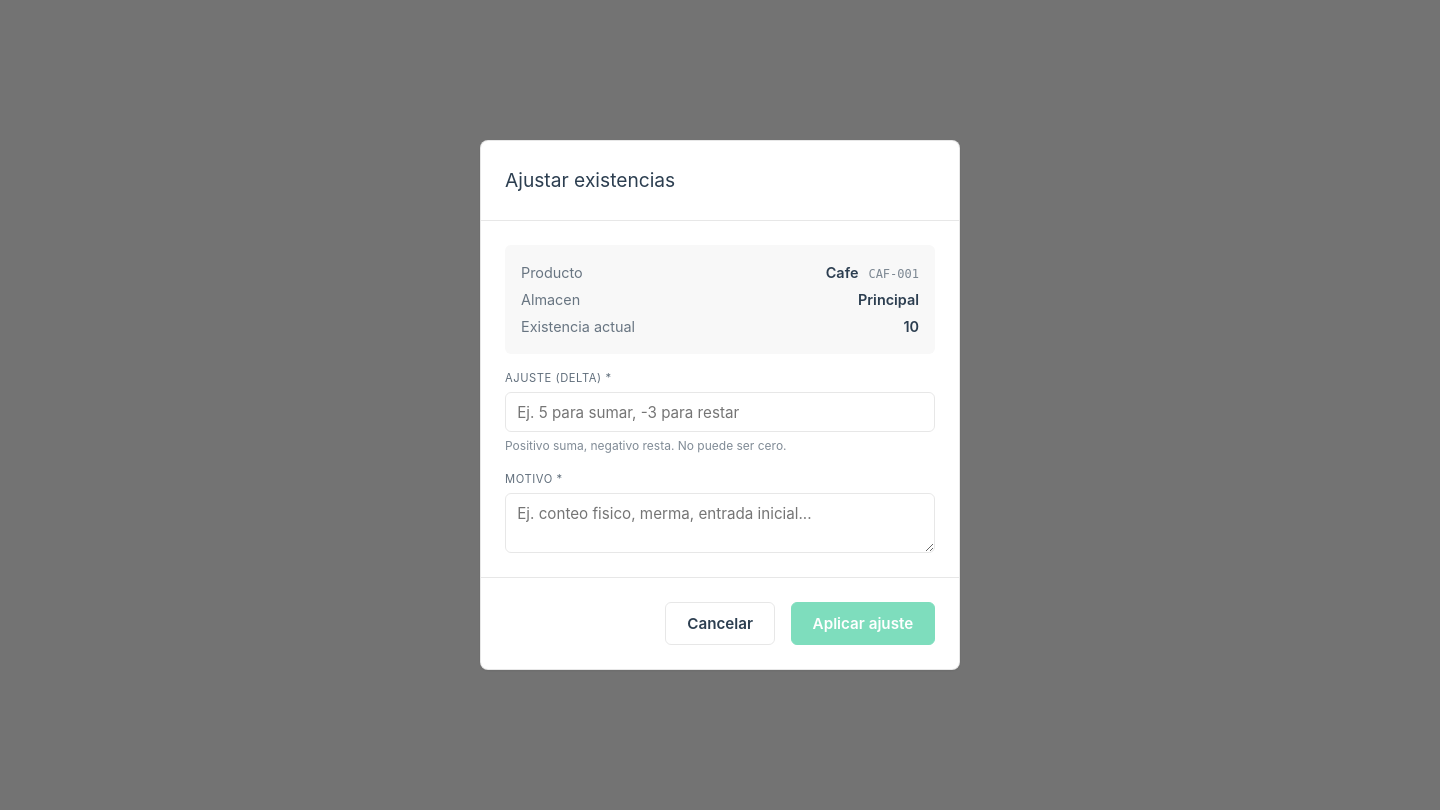
Test: AdjustStockModal › muestra el error del store cuando el ajuste falla
Type "-50" into the field with id "a-delta".
click(720, 412); type("-50")  # box [505,392,935,432]
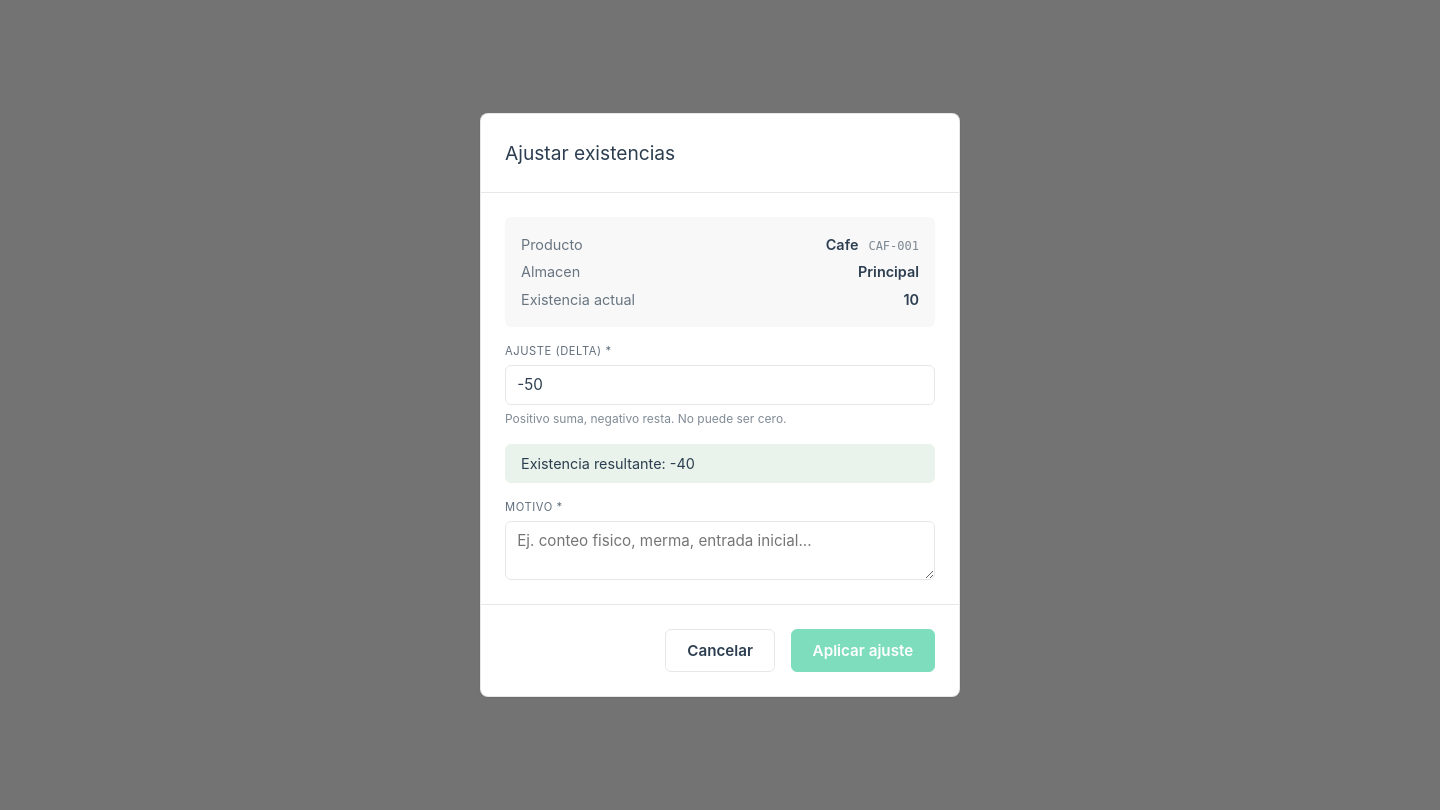
Type "Merma" into the text box with id "a-reason".
click(720, 550); type("Merma")  # box [505,521,935,580]
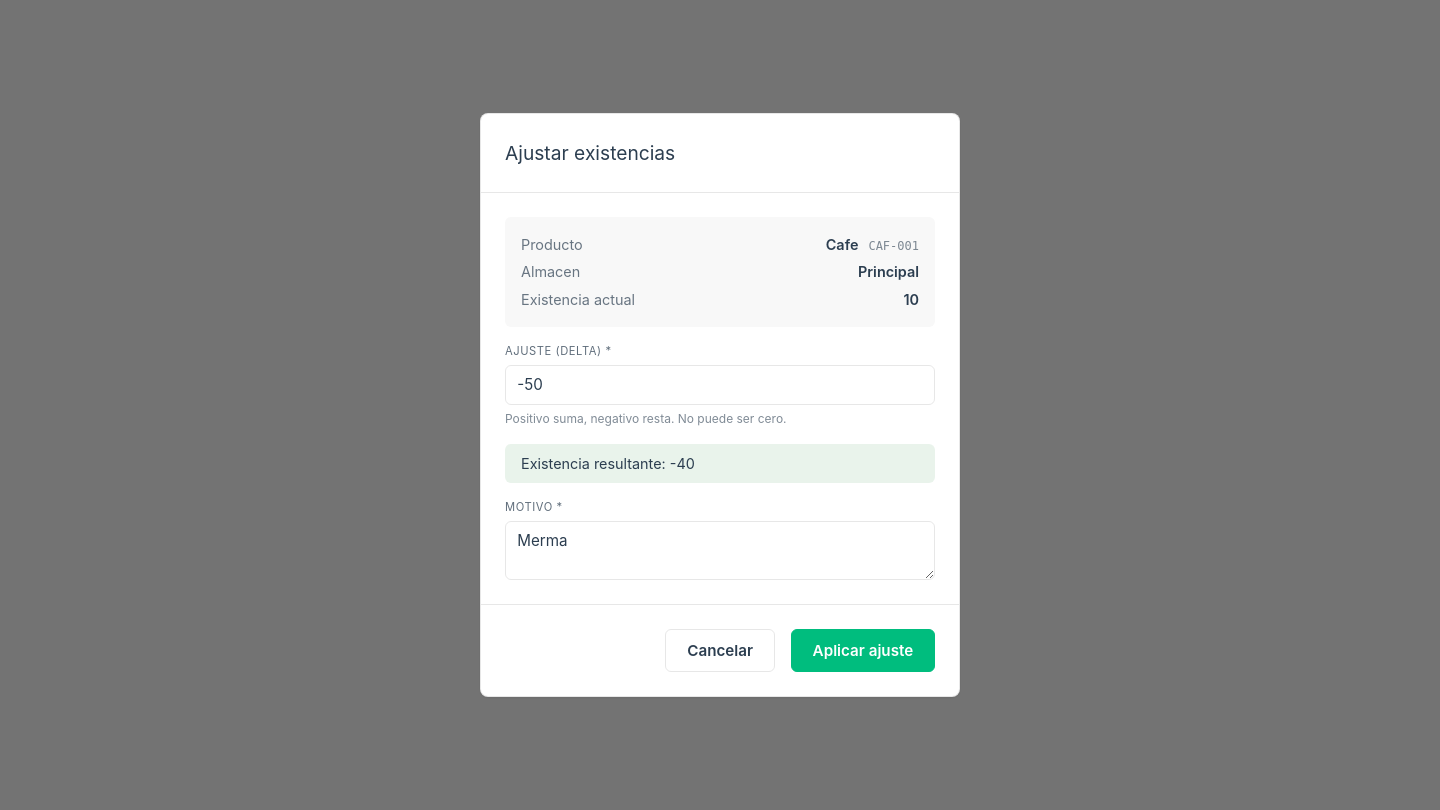
Click the button with class "adj-modal__btn--save".
click(863, 651)  # box [791,629,935,672]
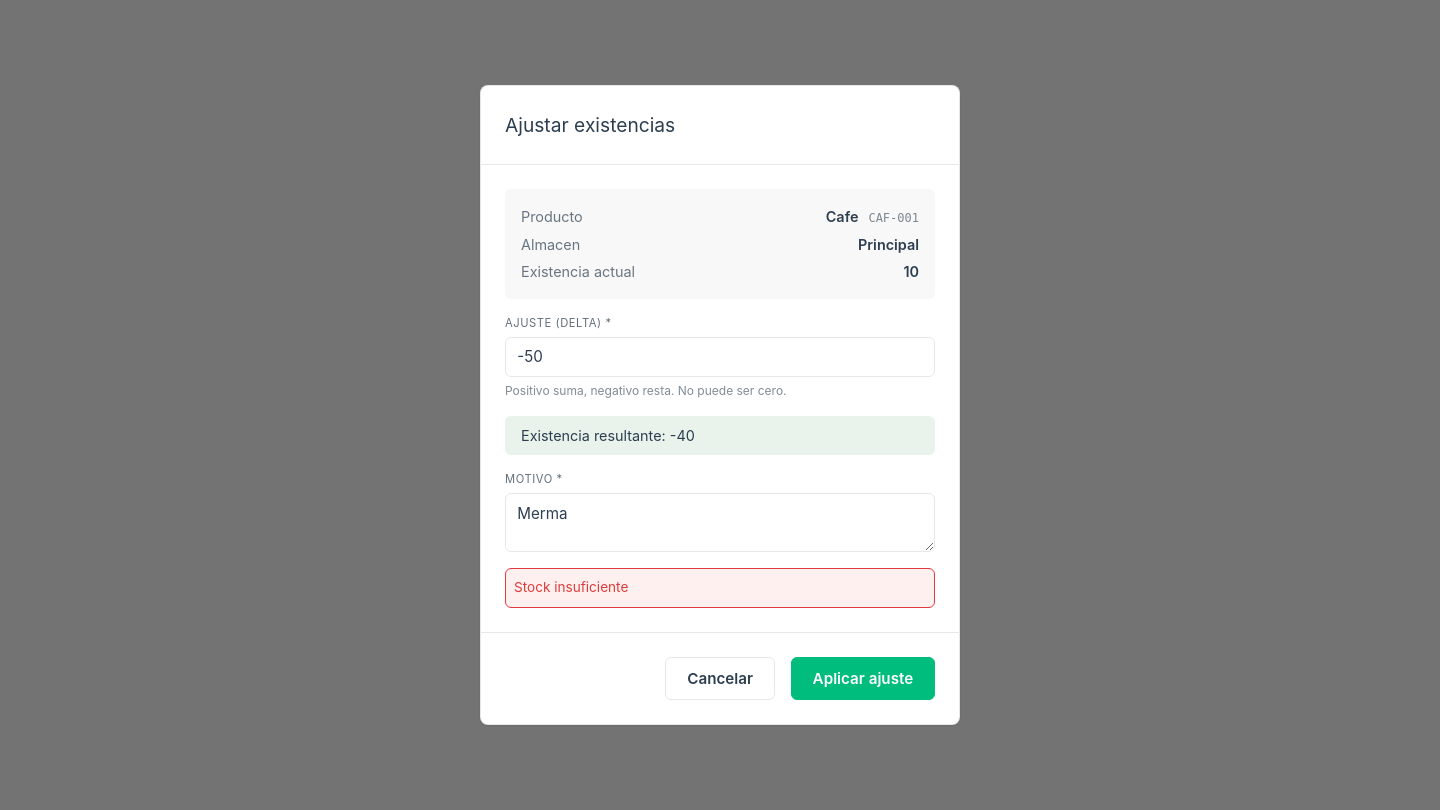
Now the text with class "adj-modal__error" reads "Stock insuficiente", box [514,579,628,595]
